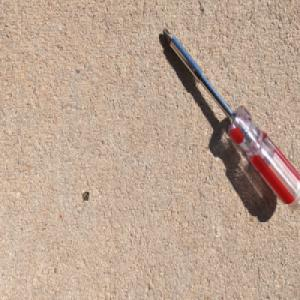Screwdriver: (162, 25, 300, 213)
